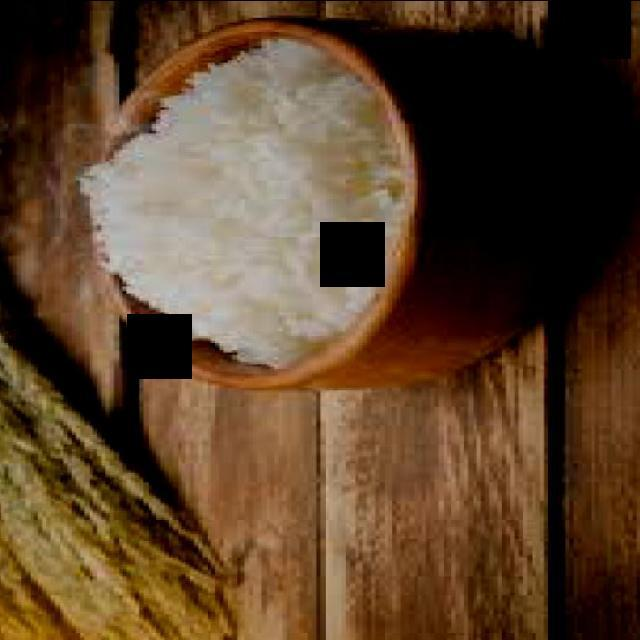rice: (80, 37, 412, 367)
